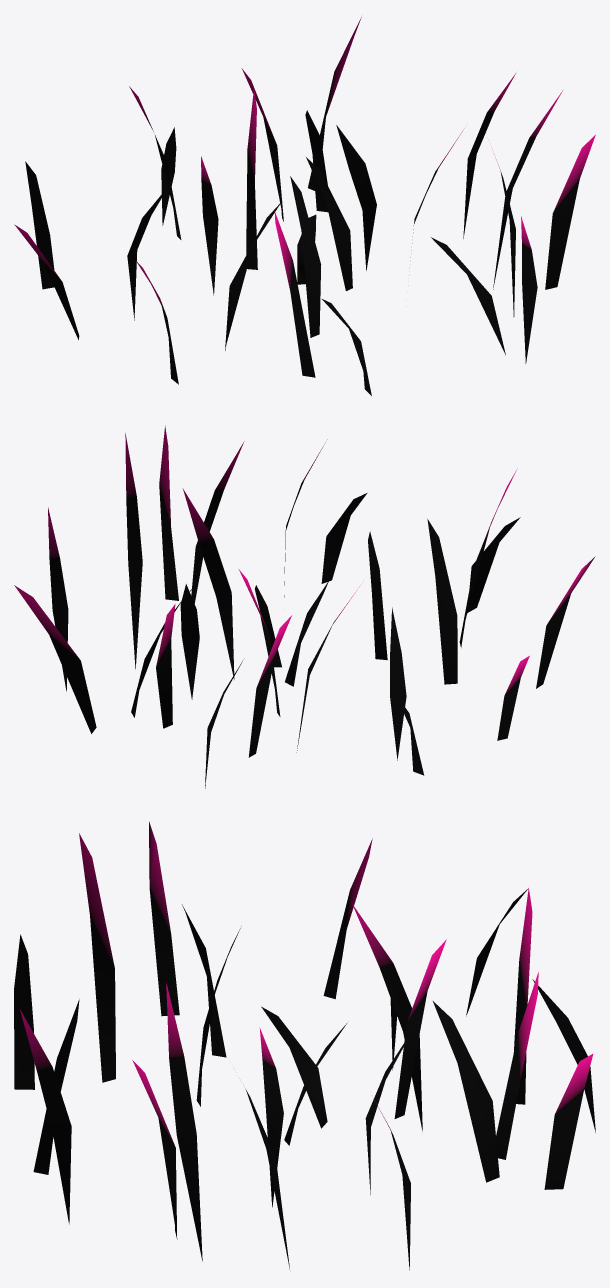
The model's file is PH_CMC_GrassTerrain_02.FBX.
3 renders of one model, top to bottom at view 1: azimuth 30°, elevation 25°; view 2: azimuth 150°, elevation 25°; view 3: azimuth 270°, elevation 25°, orthographic. The views are drawn at different scales.
Parts seen in each view (by area): view 1: PH_CMC_GrassTerrain_02_LOD0; view 2: PH_CMC_GrassTerrain_02_LOD0; view 3: PH_CMC_GrassTerrain_02_LOD0.
Boxes of the visible parts, x1,y1,x2,y2 form: PH_CMC_GrassTerrain_02_LOD0: [14, 17, 595, 395]; PH_CMC_GrassTerrain_02_LOD0: [14, 425, 595, 788]; PH_CMC_GrassTerrain_02_LOD0: [14, 821, 595, 1270].
Size of what is drawn, in the model's own units: 89.92 by 37.98 by 76.37.
